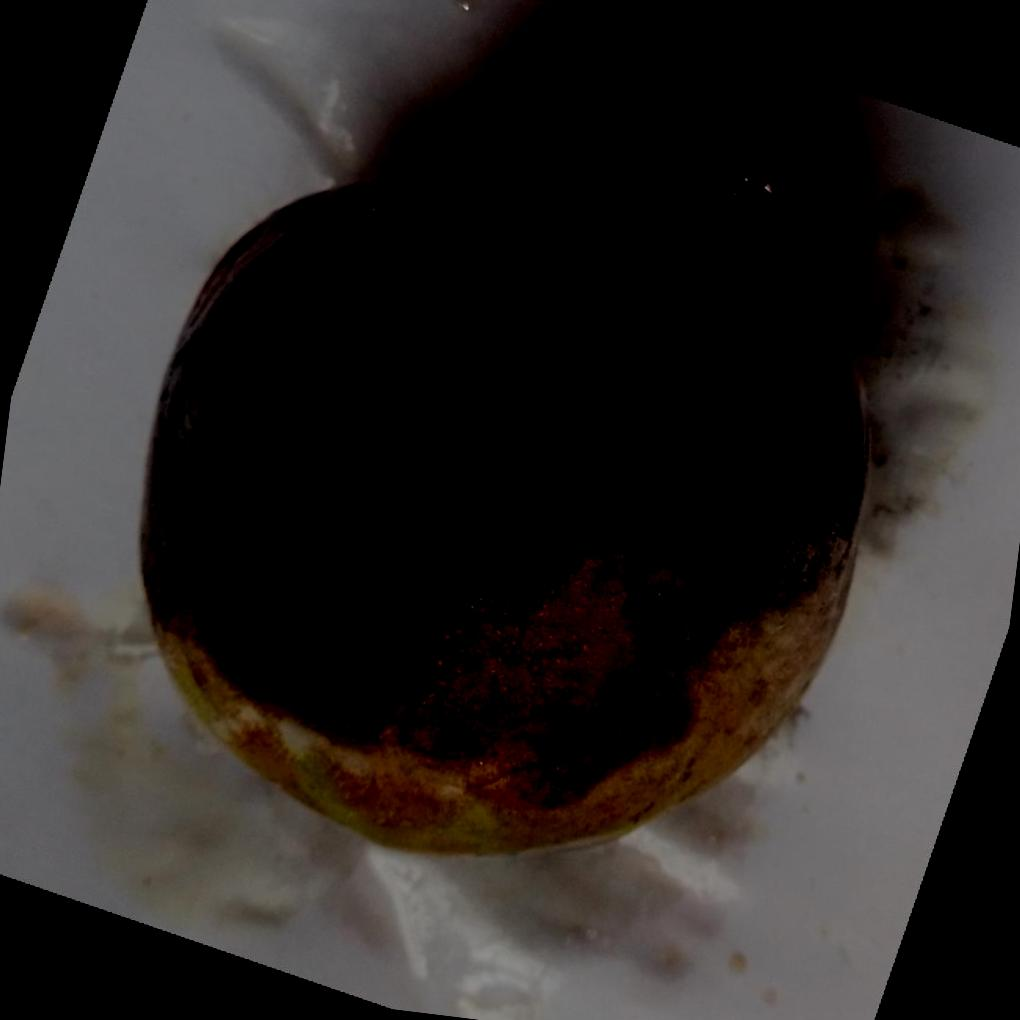FreshOrange: (137, 146, 877, 855)
